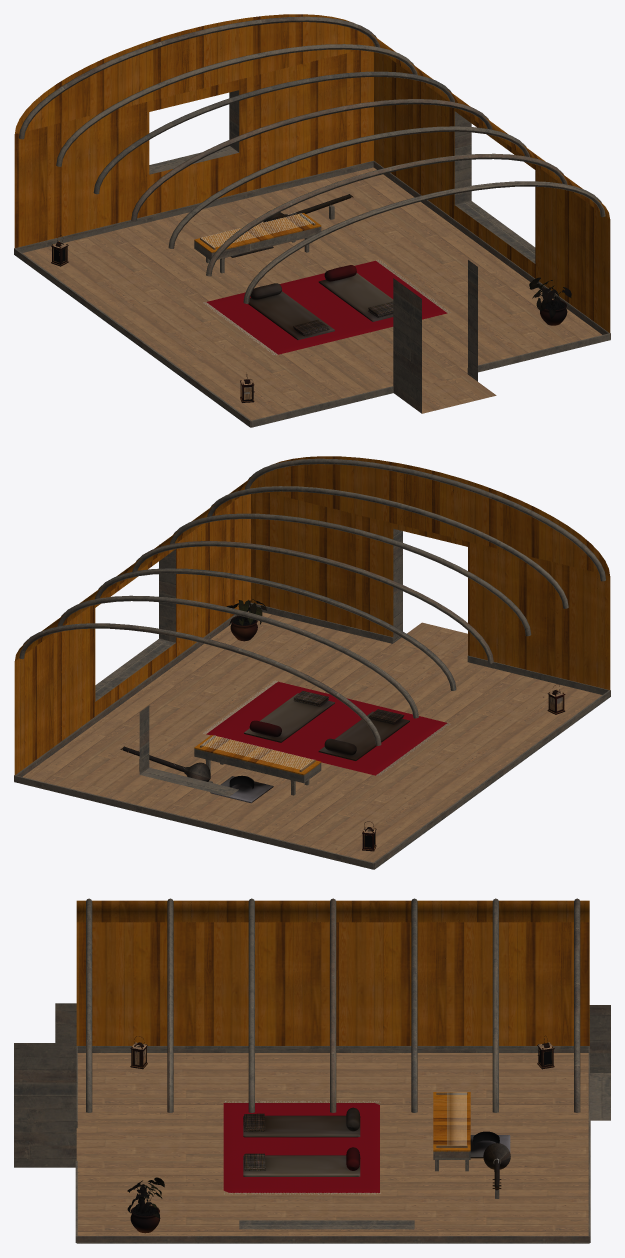
The model's file is room.gltf.
3 views of the same model, one above another, from view 1: azimuth 30°, elevation 25°; view 2: azimuth 150°, elevation 25°; view 3: azimuth 270°, elevation 25° (orthographic). The views are drawn at different scales.
Visible parts, largest first — view 1: shell_cedar, shell_floor_pale, shell_beam, shell_jacquard, prop_linen, shell_steel, prop_potted_plant_02_2, prop_wool; view 2: shell_cedar, shell_floor_pale, shell_beam, shell_jacquard, prop_linen, shell_steel, prop_herring, prop_wool, prop_beam, prop_velvet; view 3: shell_cedar, shell_floor_pale, shell_beam, shell_jacquard, prop_linen, shell_steel, prop_wool, prop_herring, prop_beam, prop_potted_plant_02_2, prop_velvet, prop_potted_plant_02_3.
Part boxes in pixels (x1,y1,x2,y2): shell_cedar: (14,14,610,332); shell_floor_pale: (22,167,601,420); shell_beam: (14,16,610,427); shell_jacquard: (206,260,447,354); prop_linen: (248,273,393,339); shell_steel: (201,213,314,247); prop_potted_plant_02_2: (529,277,571,318); prop_wool: (293,301,393,336); shell_cedar: (14,456,610,775); shell_floor_pale: (23,611,602,862); shell_beam: (14,458,610,869); shell_jacquard: (206,681,447,775); prop_linen: (244,693,409,760); shell_steel: (202,735,313,769); prop_herring: (210,738,356,803); prop_wool: (293,691,404,724); prop_beam: (122,746,210,781); prop_velvet: (229,720,281,788); shell_cedar: (76,900,589,1151); shell_floor_pale: (76,1053,588,1235); shell_beam: (14,898,610,1243); shell_jacquard: (223,1103,379,1192); prop_linen: (243,1115,360,1176); shell_steel: (447,1092,466,1145); prop_wool: (243,1113,265,1170); prop_herring: (346,1107,510,1158); prop_beam: (483,1143,510,1190); prop_potted_plant_02_2: (127,1177,164,1218); prop_velvet: (346,1131,499,1170); prop_potted_plant_02_3: (130,1205,160,1233).
Size of the model in its own units: 7.57 by 3.58 by 9.54.
21 materials, 21 textured.
